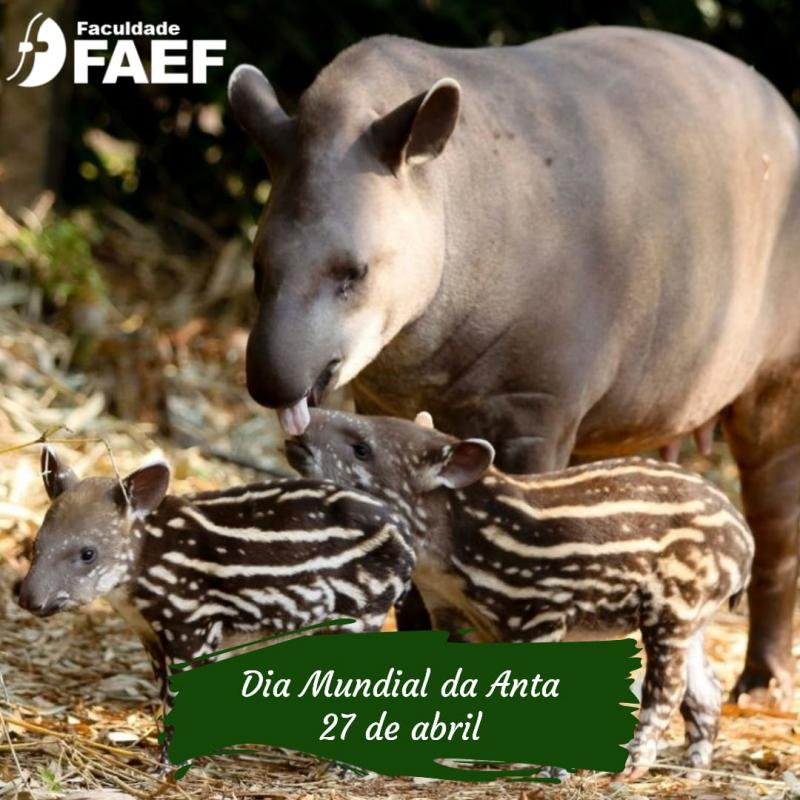Anta: (228, 29, 792, 432), (276, 410, 759, 630), (15, 443, 413, 641)
